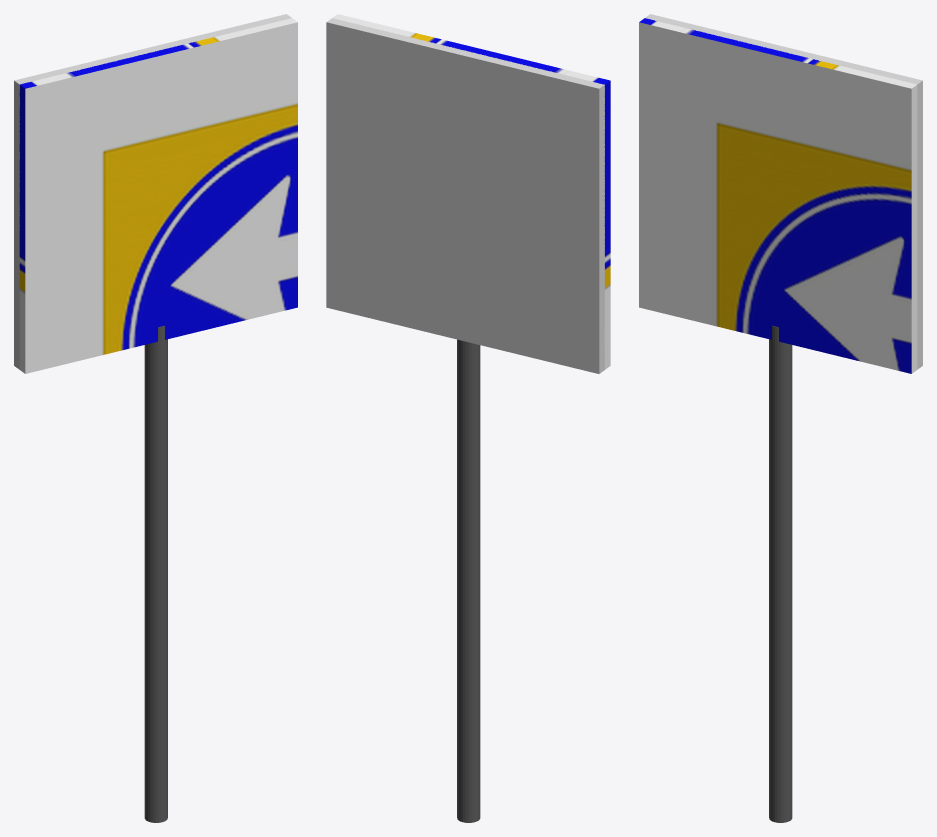
Rendered from teknofest_sign_sola_mecburi_yon.fbx.
The picture shows the model from 3 angles, left to right: view 1: azimuth 30°, elevation 25°; view 2: azimuth 150°, elevation 25°; view 3: azimuth 330°, elevation 25°; orthographic projection.
Visible parts, largest first — view 1: teknofest_sign_sola_mecburi_yon_board, teknofest_sign_sola_mecburi_yon_pole, teknofest_sign_sola_mecburi_yon_back; view 2: teknofest_sign_sola_mecburi_yon_back, teknofest_sign_sola_mecburi_yon_pole, teknofest_sign_sola_mecburi_yon_board; view 3: teknofest_sign_sola_mecburi_yon_board, teknofest_sign_sola_mecburi_yon_pole, teknofest_sign_sola_mecburi_yon_back.
Part boxes in pixels (left/top/right/bottom): teknofest_sign_sola_mecburi_yon_board: left=19, top=18, right=297, bottom=373; teknofest_sign_sola_mecburi_yon_pole: left=144, top=325, right=167, bottom=822; teknofest_sign_sola_mecburi_yon_back: left=14, top=14, right=291, bottom=369; teknofest_sign_sola_mecburi_yon_back: left=326, top=18, right=604, bottom=373; teknofest_sign_sola_mecburi_yon_pole: left=457, top=339, right=480, bottom=822; teknofest_sign_sola_mecburi_yon_board: left=333, top=14, right=610, bottom=369; teknofest_sign_sola_mecburi_yon_board: left=639, top=18, right=917, bottom=373; teknofest_sign_sola_mecburi_yon_pole: left=769, top=325, right=792, bottom=822; teknofest_sign_sola_mecburi_yon_back: left=645, top=14, right=922, bottom=369.
Bounding box in the file's own units: 95 × 255 × 7.05.
Materials: 3 (1 with a texture image).
